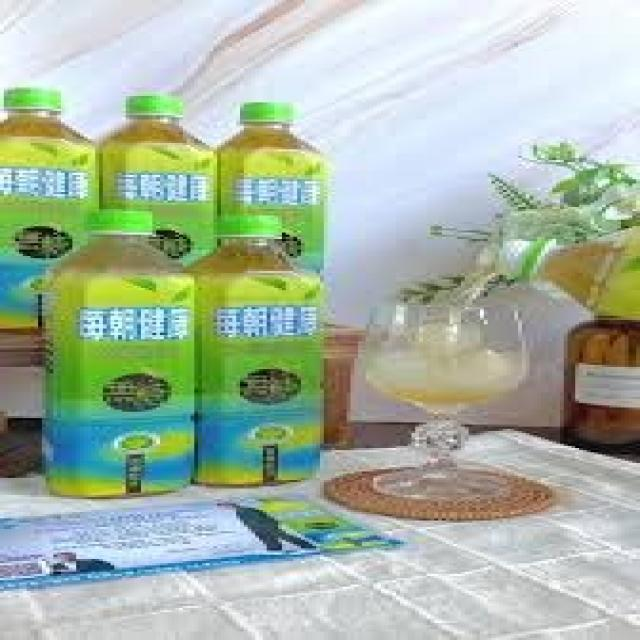MeiChou_GreenTea: (43, 204, 191, 499), (201, 204, 320, 488)
